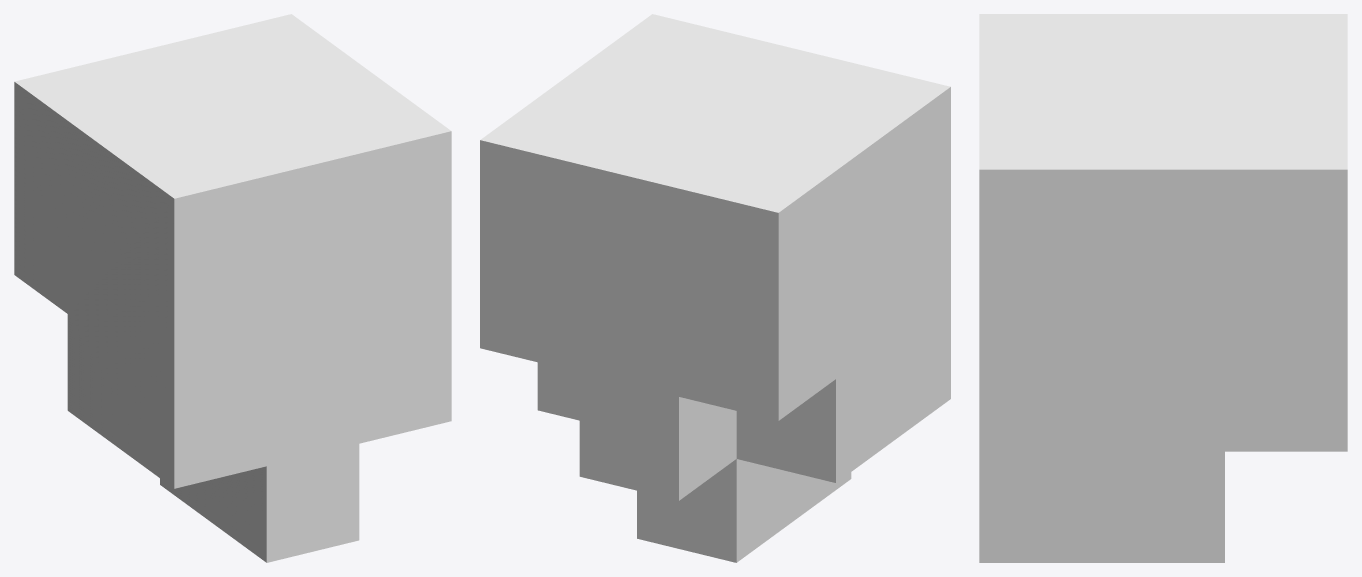
File: Skeleton_Head.dae
The picture shows the model from 3 angles, left to right: view 1: azimuth 30°, elevation 25°; view 2: azimuth 150°, elevation 25°; view 3: azimuth 270°, elevation 25°; orthographic projection. The views are drawn at different scales.
Parts seen in each view (by area): view 1: Skeleton_Head; view 2: Skeleton_Head; view 3: Skeleton_Head.
Boxes of the visible parts, left/top/right/bottom form: Skeleton_Head: left=14, top=14, right=451, bottom=562; Skeleton_Head: left=480, top=14, right=950, bottom=562; Skeleton_Head: left=979, top=14, right=1347, bottom=562.
Size of the model in its own units: 0.3 by 0.4 by 0.3.
1 material, 1 textured.
